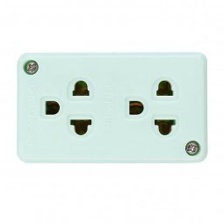three_eye_plug: (12, 46, 214, 165)
